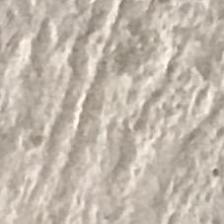Non_Crack: (32, 16, 201, 211)
